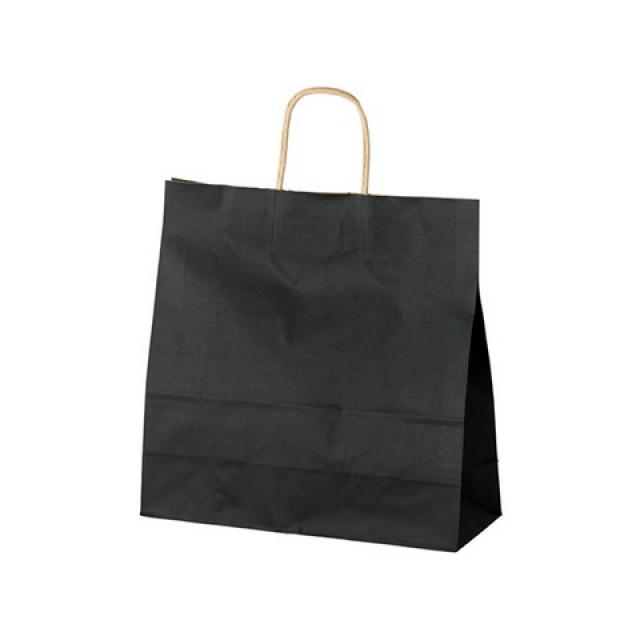paper bag: (131, 79, 501, 555)
